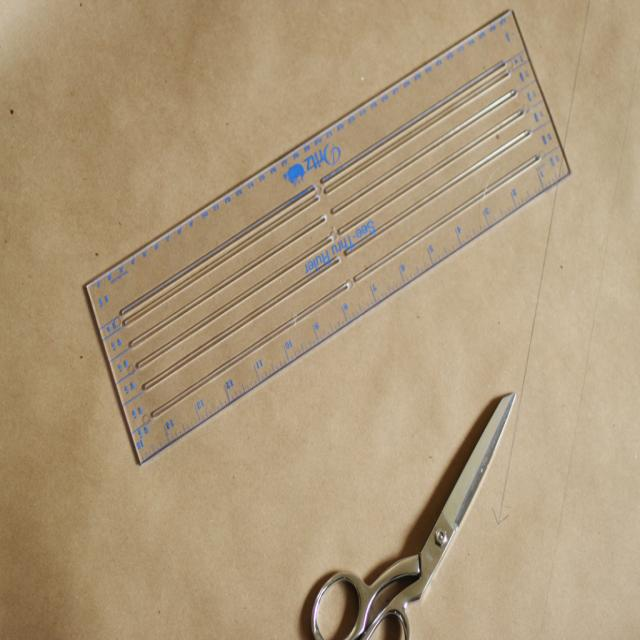scissors: (310, 391, 516, 639)
